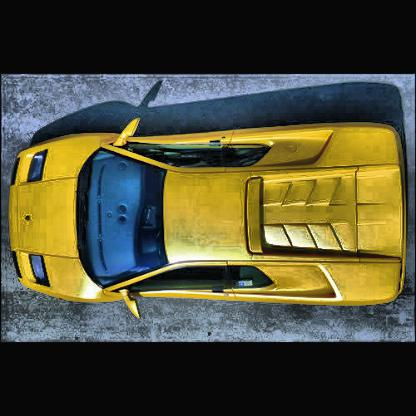Lamborghini Diablo Coupe 2001: (9, 115, 408, 318)
